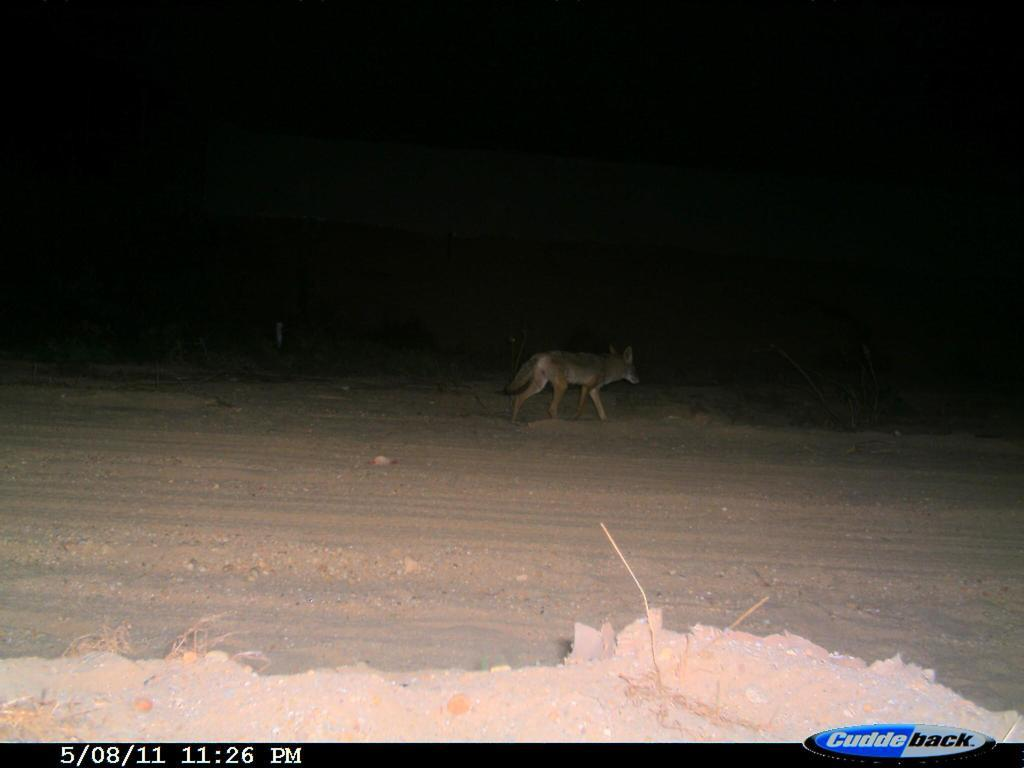coyote: (501, 335, 649, 433)
